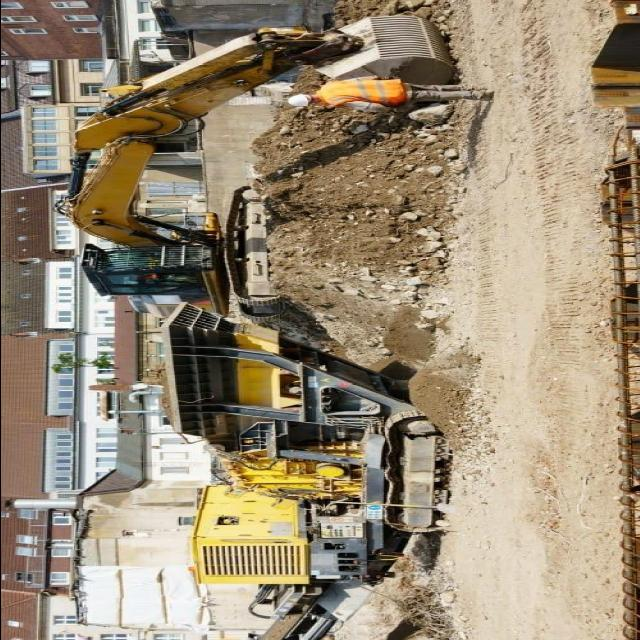helmet: (282, 90, 314, 110)
jacket: (316, 76, 414, 110)
